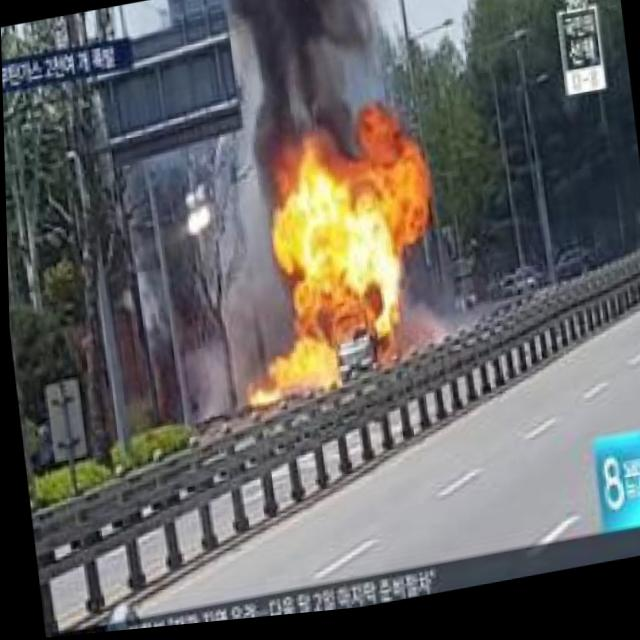Fire: (270, 182, 408, 348), (254, 347, 337, 410)
